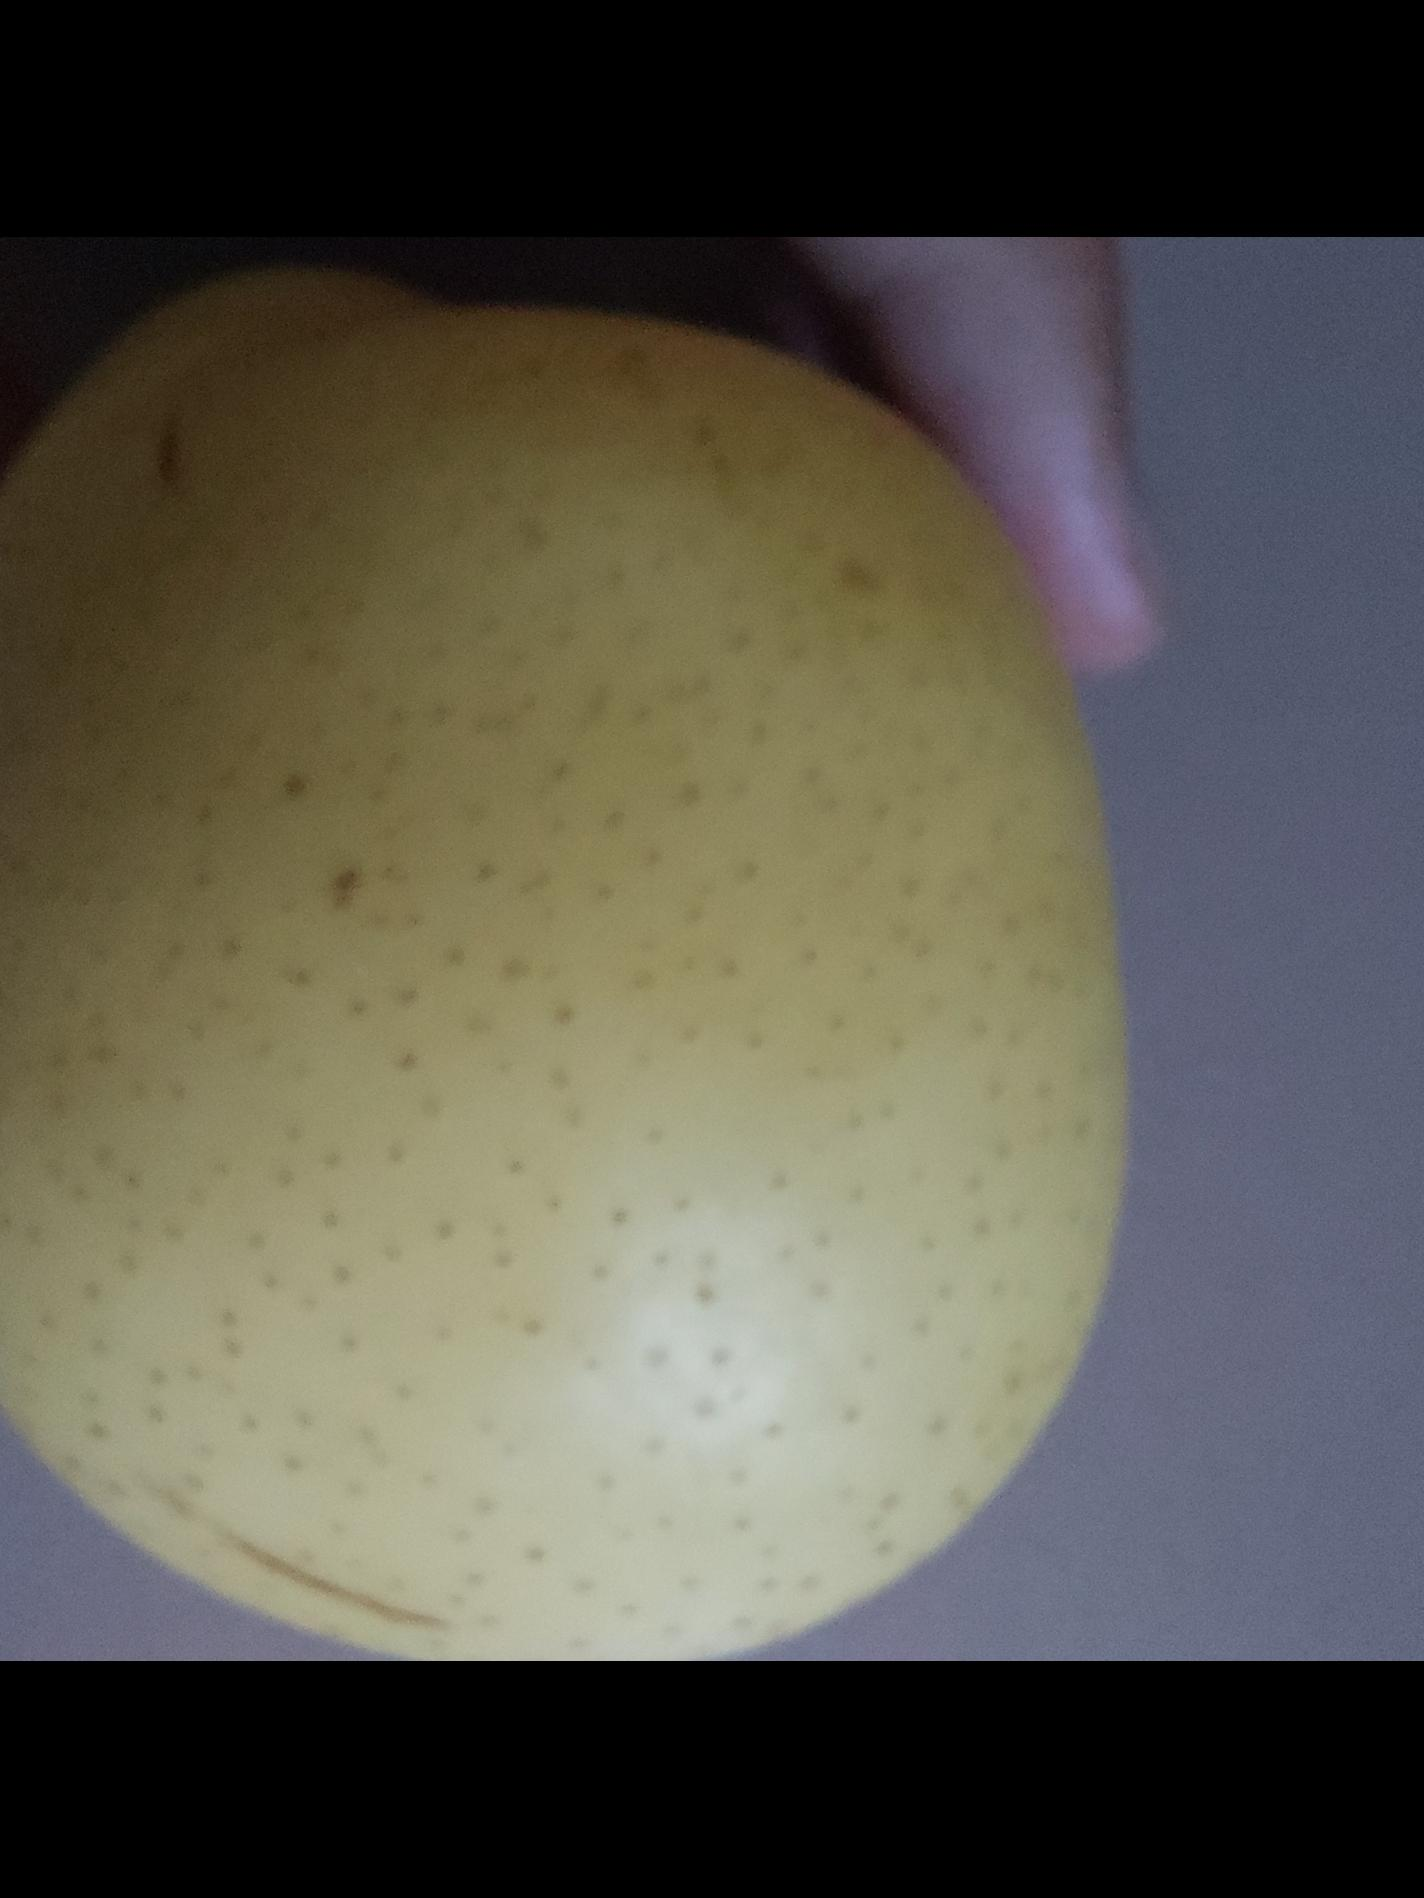Good Pear: (0, 285, 1130, 1661)
